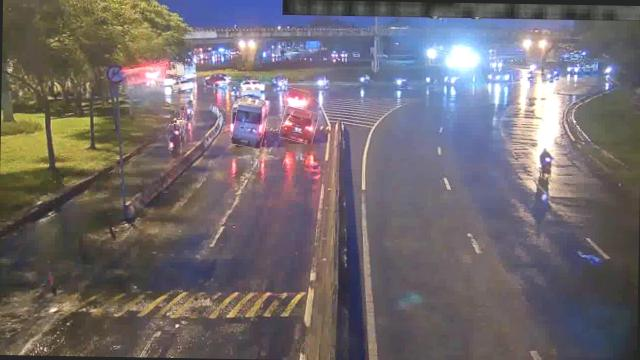Bike: (538, 144, 556, 178), (168, 124, 181, 154), (183, 98, 194, 121)
Bus: (232, 97, 268, 149)
Car: (280, 106, 318, 143), (284, 87, 309, 108), (172, 75, 196, 92)
